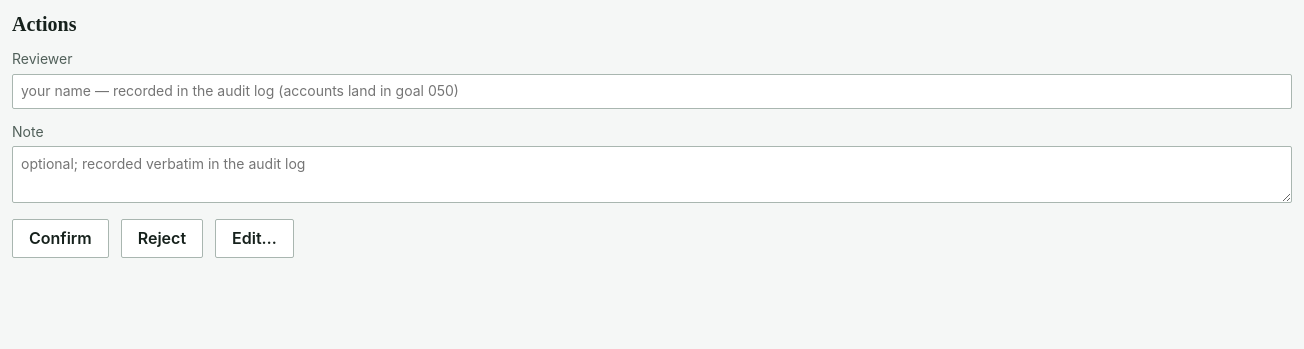
ResolvePanel verdicts (one door: the resolve action) › shows an API error verbatim and keeps the forms usable
Replace the text in the field labelled "Reviewer" with "jane" at (652, 91), box [12,74,1292,109]
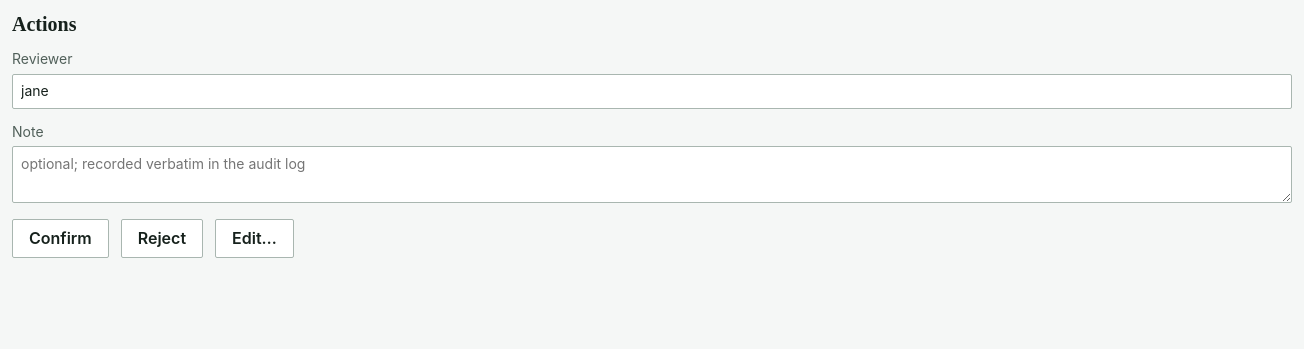
Click the button "Confirm" at (60, 239), box [12,219,109,258]
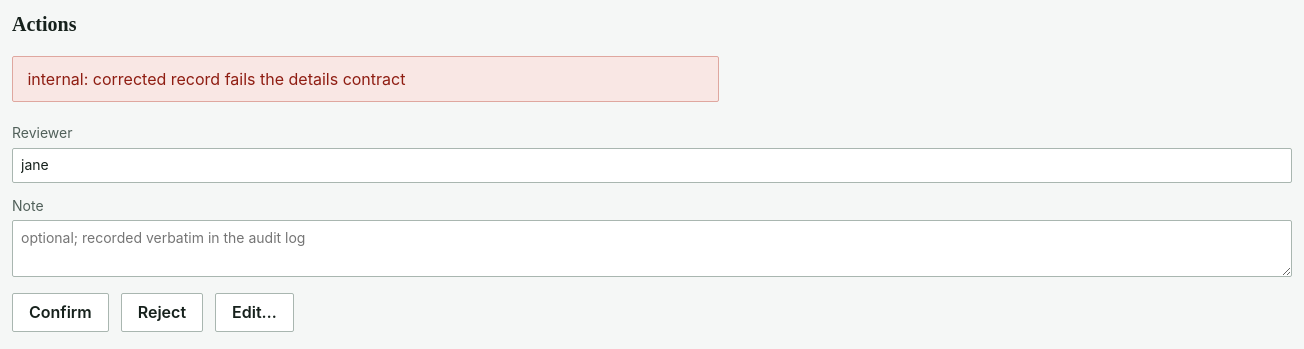
Expected: the button "Confirm" is shown, [12,293,109,332]
Result: the message with test id "resolve-error" reads "internal: corrected record fails the details contract" at [27,69,405,89]
